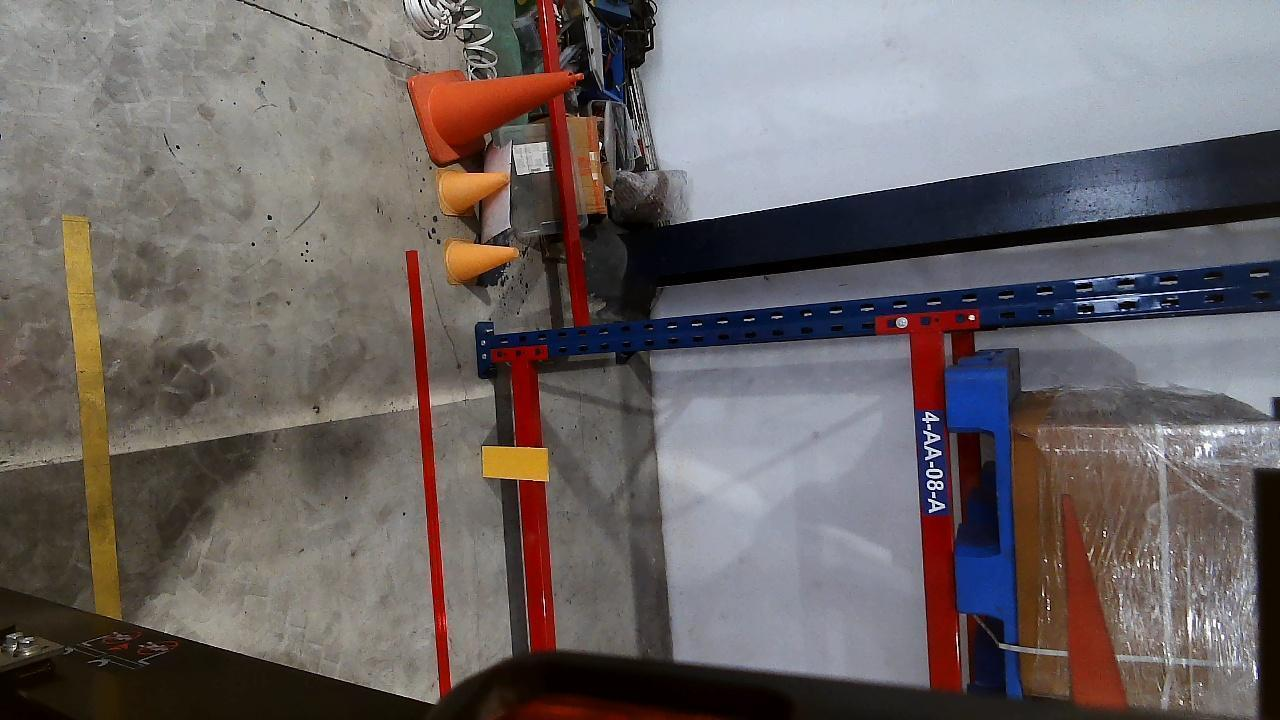red_line: (407, 250, 453, 694)
yellow_line: (58, 214, 120, 620)
